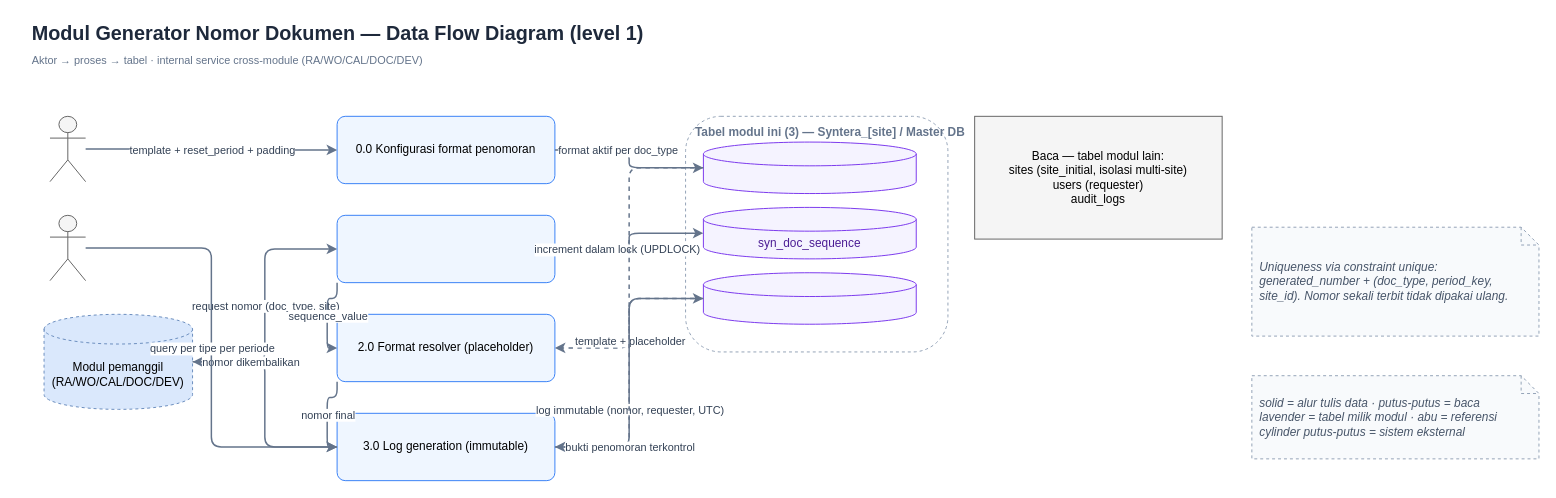
Image size: 1556x498. Some labels were removed from this diagram. Each missing label, with the centre of its shape:
1.0 Sequence atomik (transaction lock): [445,248]
Auditor (query log): [67,247]
syn_doc_number_format: [809,167]
syn_doc_number_log: [809,298]
System Admin (konfigurasi format): [67,148]
